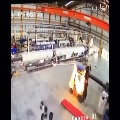fire: (69, 63, 86, 95)
